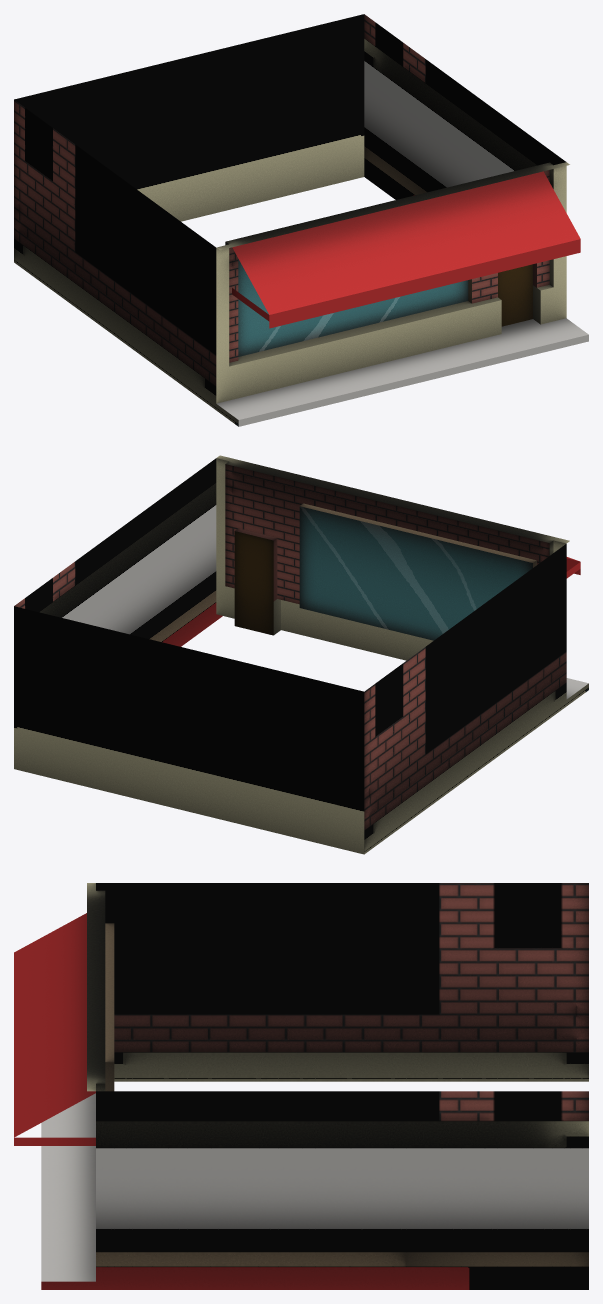
File: building middle store.fbx
The picture shows the model from 3 angles, top to bottom: view 1: azimuth 30°, elevation 25°; view 2: azimuth 150°, elevation 25°; view 3: azimuth 270°, elevation 25°; orthographic projection. The views are drawn at different scales.
Visible parts, largest first — view 1: Building Middle Store; view 2: Building Middle Store; view 3: Building Middle Store.
Part boxes in pixels (x1,y1,x2,y2): Building Middle Store: (14,14,588,426); Building Middle Store: (14,455,588,854); Building Middle Store: (14,883,588,1289).
Bounding box in the file's own units: 540 × 240 × 630.
